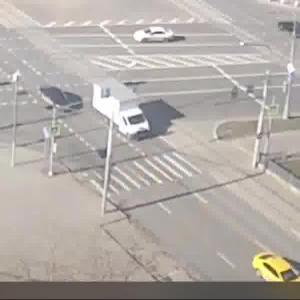car: (90, 76, 154, 142), (251, 253, 300, 283), (134, 23, 178, 50), (38, 84, 74, 116)
